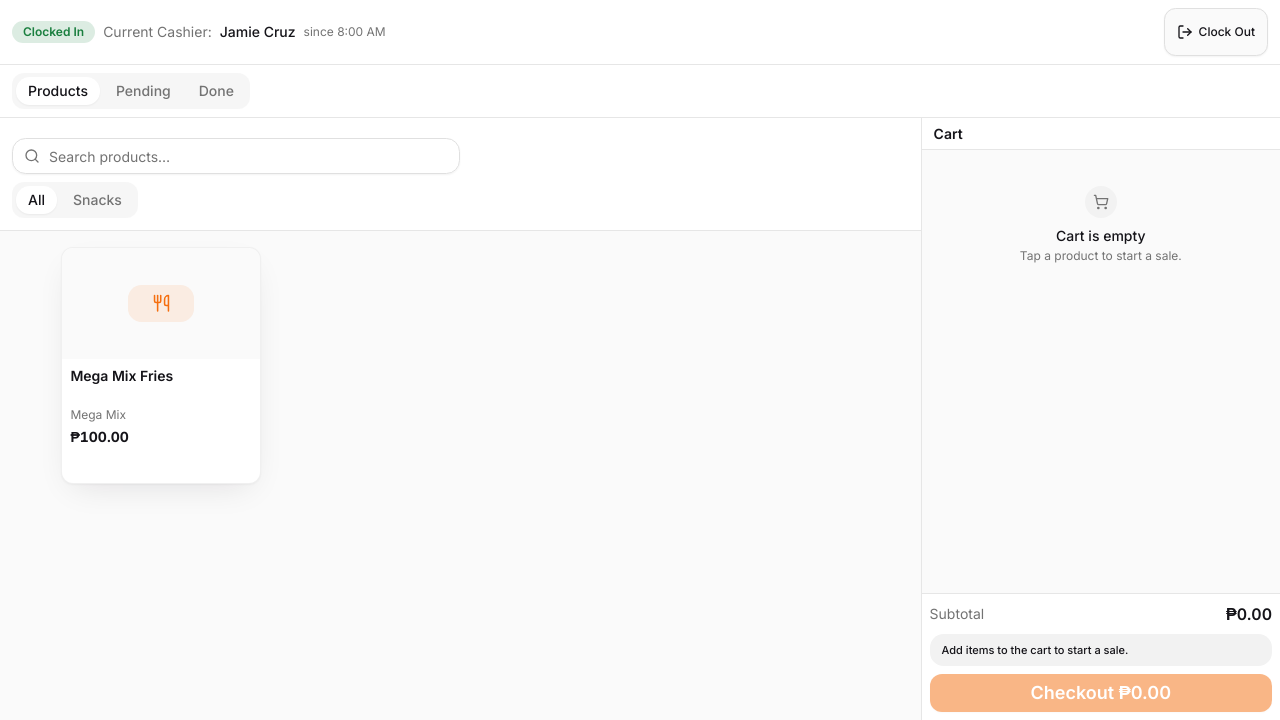
Test case: TerminalPage — flavor slot selection › renders two selectors for a two-slot variant with correct labels
Click the text "Mega Mix Fries" at (122, 376), box [70, 367, 173, 384]
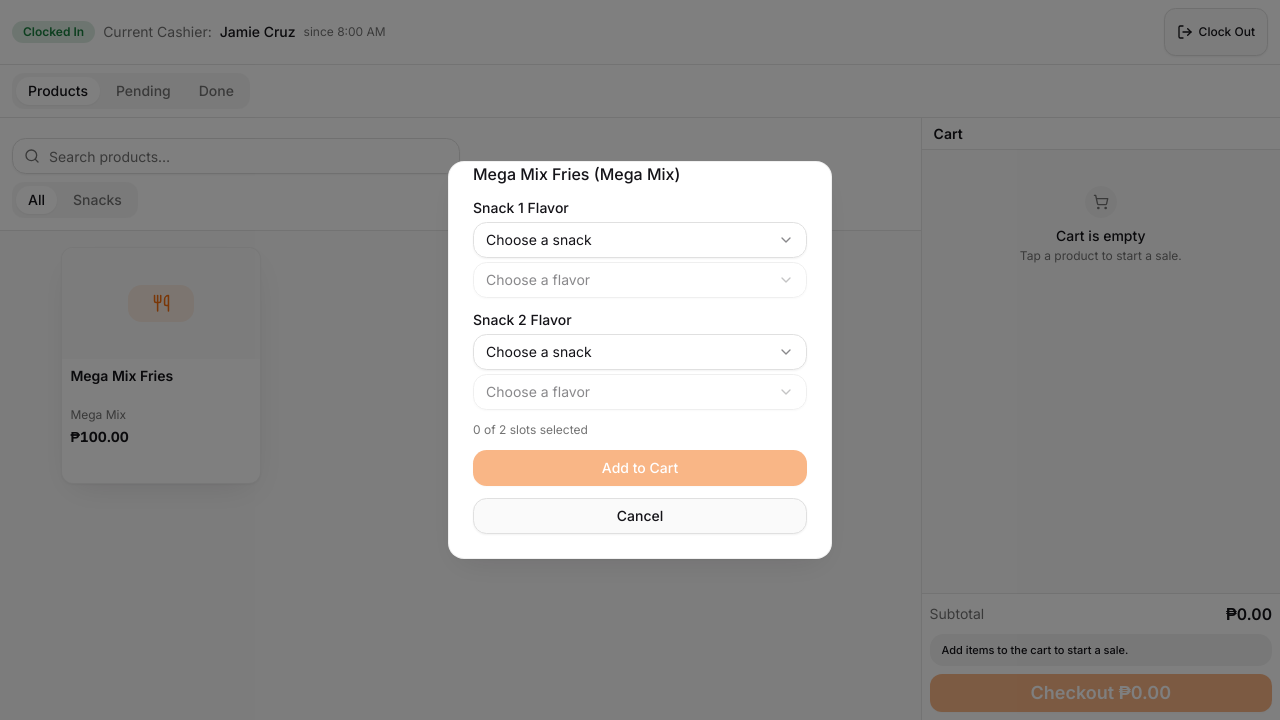
Expected: the text "Snack 1 Flavor" is shown, [473, 199, 569, 216]
Expected: the text "Snack 2 Flavor" is shown, [473, 311, 572, 328]
